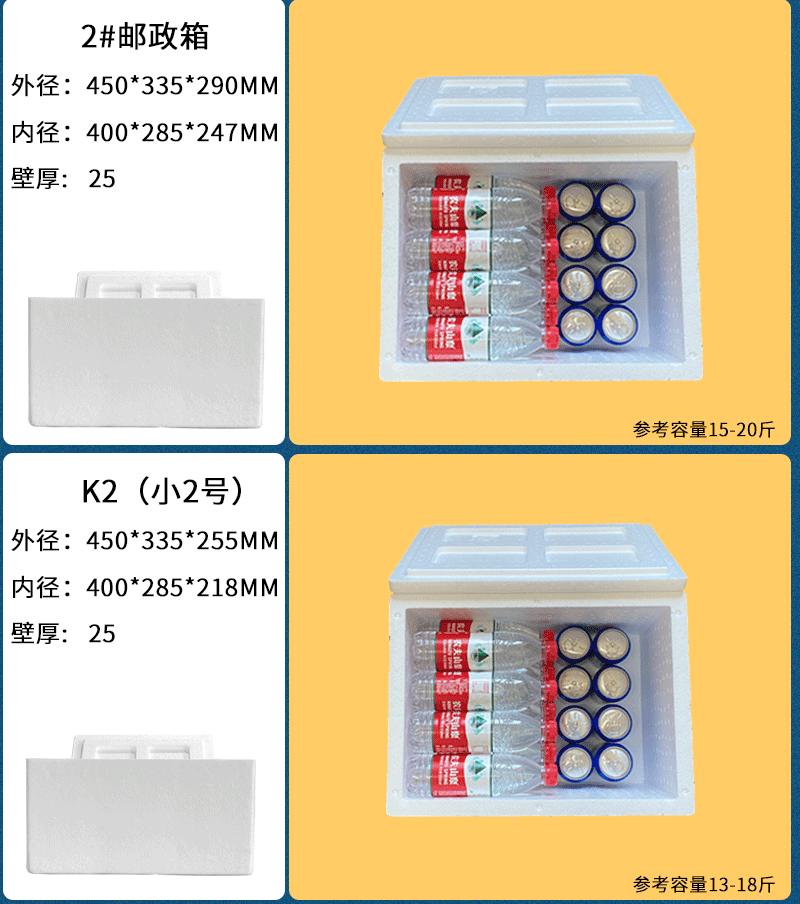泡沫箱: (380, 75, 702, 380), (387, 523, 693, 816), (27, 271, 274, 439), (26, 735, 255, 876)
